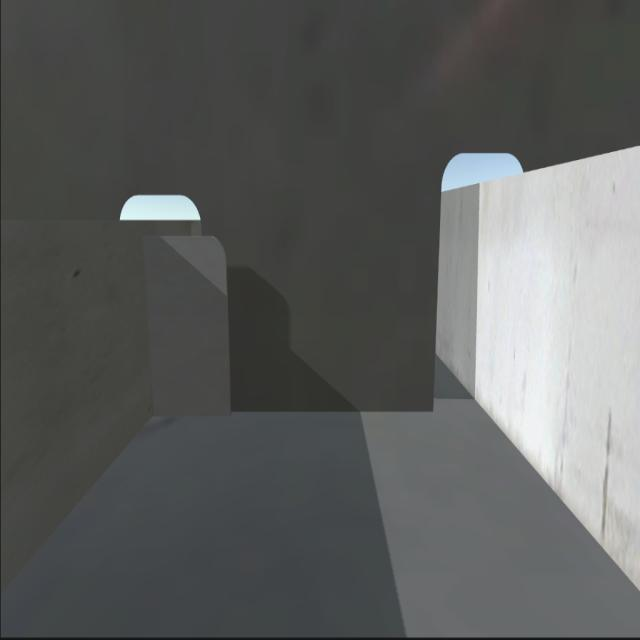fillet_yong_jeop_jang: (148, 402, 434, 420)
longi_yong_jeop_jang: (140, 234, 163, 423)
plate_CP05: (142, 233, 234, 420)
